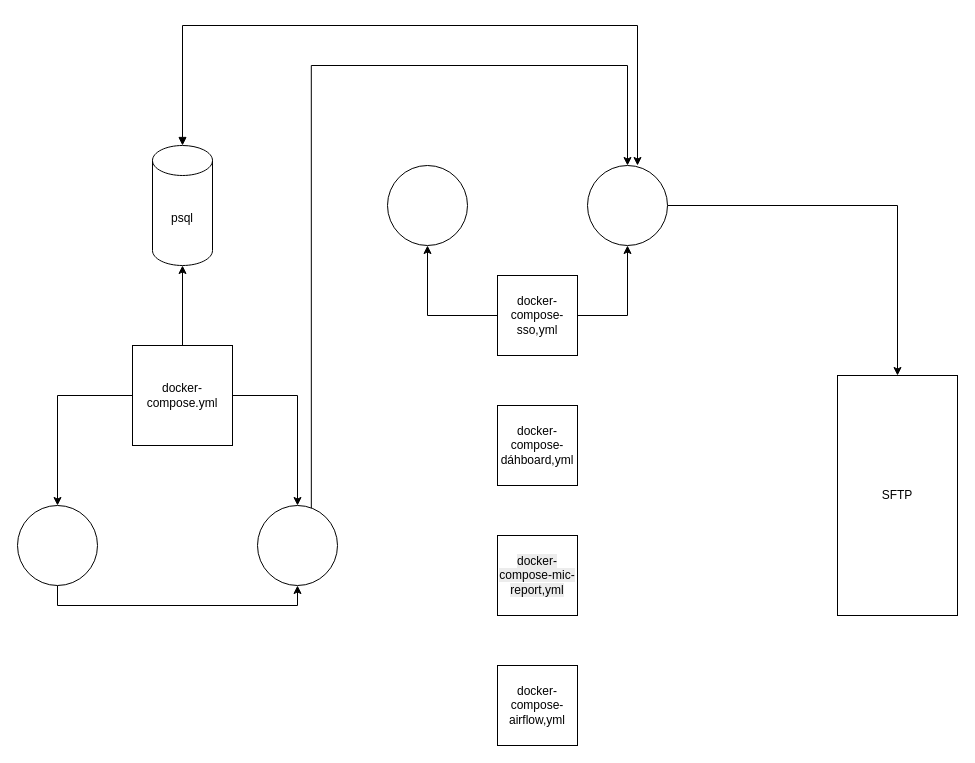
This 975x763 diagram has some shape labels left out. The shapes that lost their labels are listed below. From the top down, each one's centre as x and y in pixels, then its label:
At pixel 427 205: "init-connector".
At pixel 627 205: "job sync".
At pixel 57 545: "debezium".
At pixel 297 545: "kafka".
